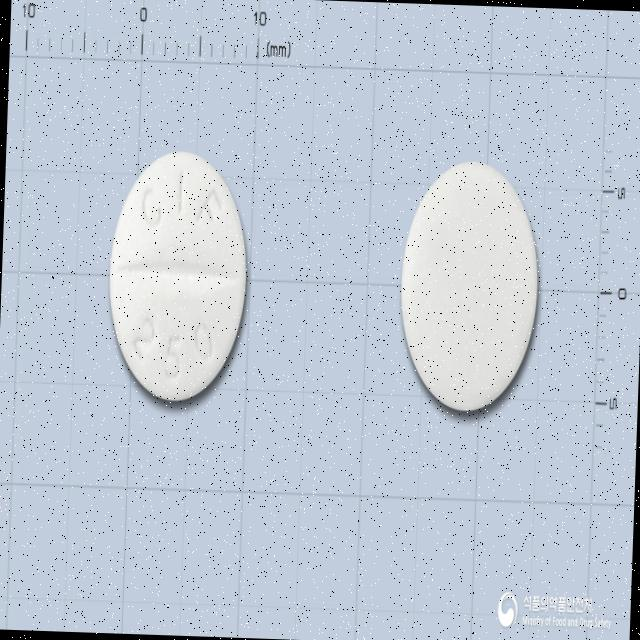Sinil Ciprofloxacin HCl Tab: (103, 145, 251, 405), (396, 155, 544, 413)
